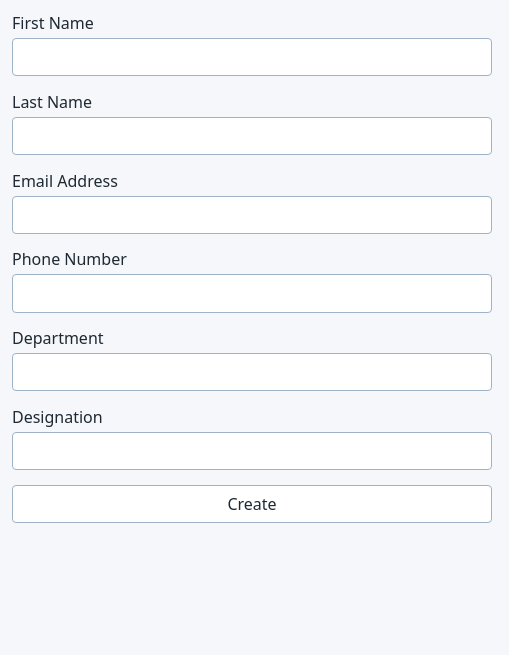
Test: UserForm › shows required-field errors and does not submit
Click the button "Create".
click(252, 504)  # box top-left (12, 485), bottom-right (492, 523)
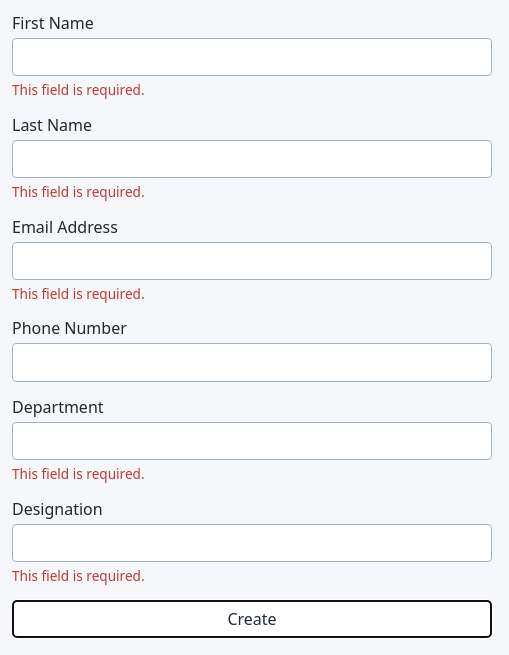
Now the text "This field is required." is shown 5 times, box top-left (12, 80), bottom-right (145, 99); top-left (12, 182), bottom-right (145, 201); top-left (12, 284), bottom-right (145, 303); top-left (12, 464), bottom-right (145, 483); top-left (12, 566), bottom-right (145, 585)
